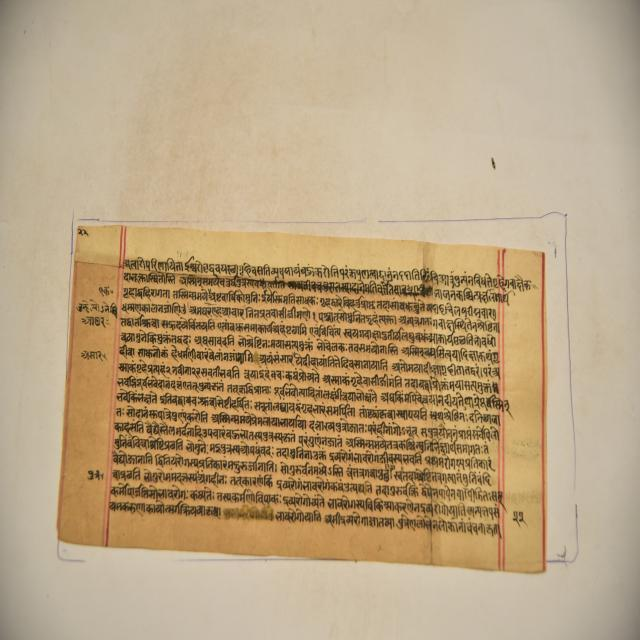text_paragraph: (56, 223, 544, 573)
